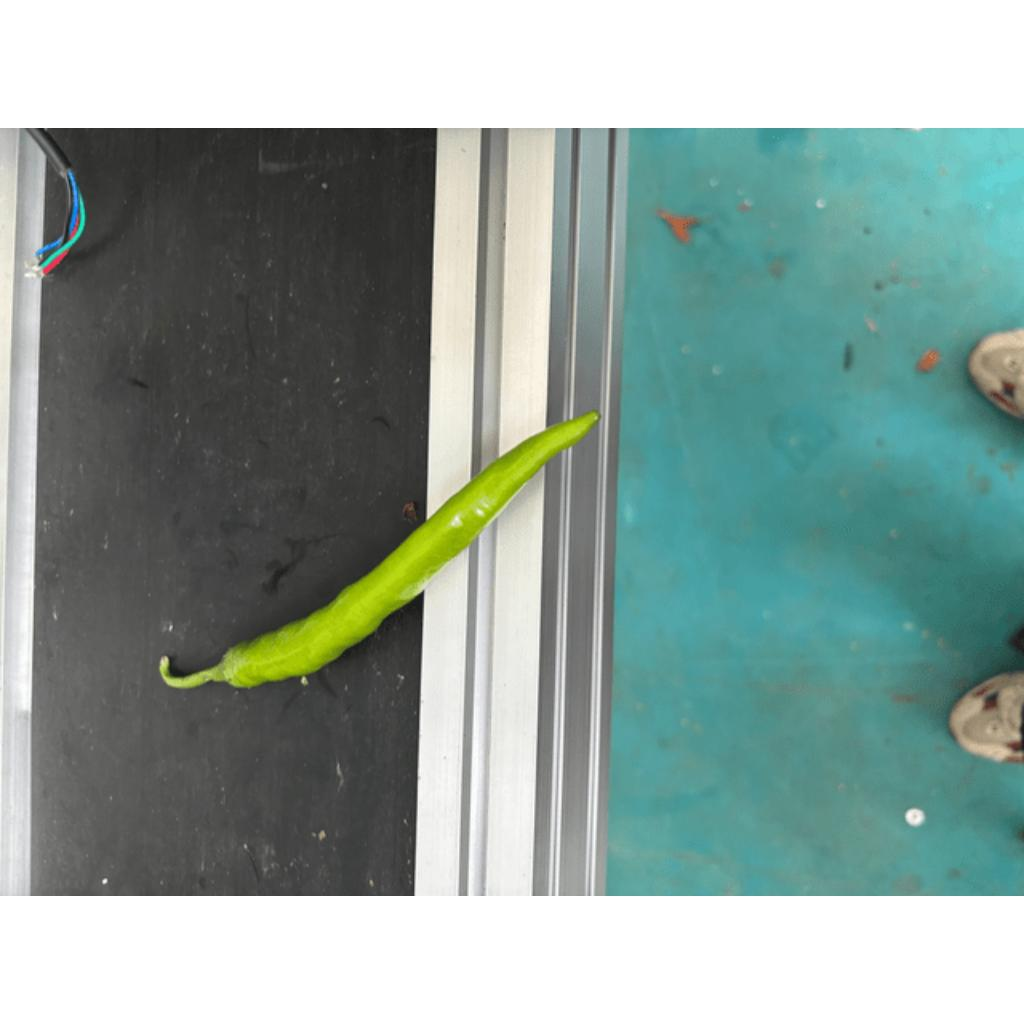chili: (218, 405, 605, 692)
